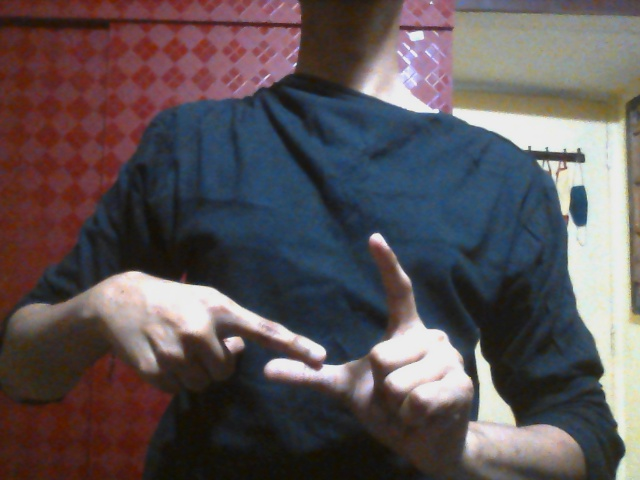J: (155, 229, 473, 452)
